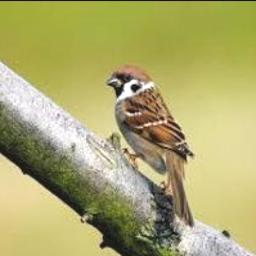Sparrow: (107, 66, 194, 227)
